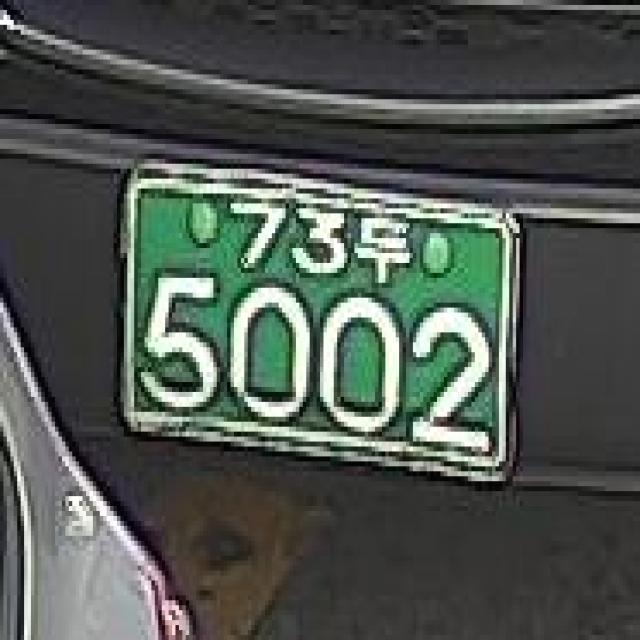illegal_plate: (101, 140, 532, 505)
